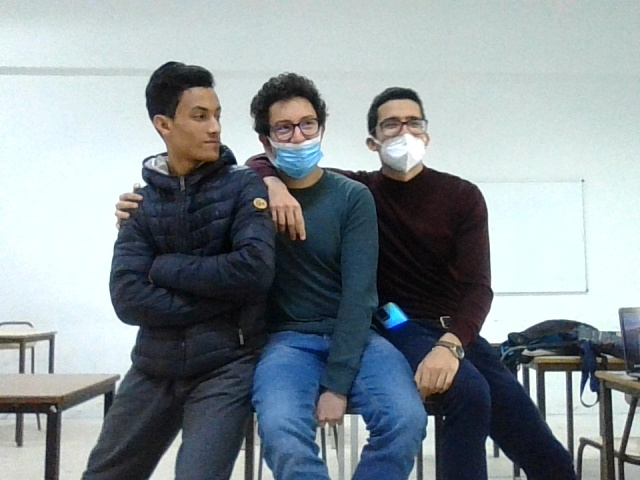mask_weared_incorrect: (245, 67, 347, 189), (361, 76, 439, 172)
without_mask: (140, 56, 238, 172)
